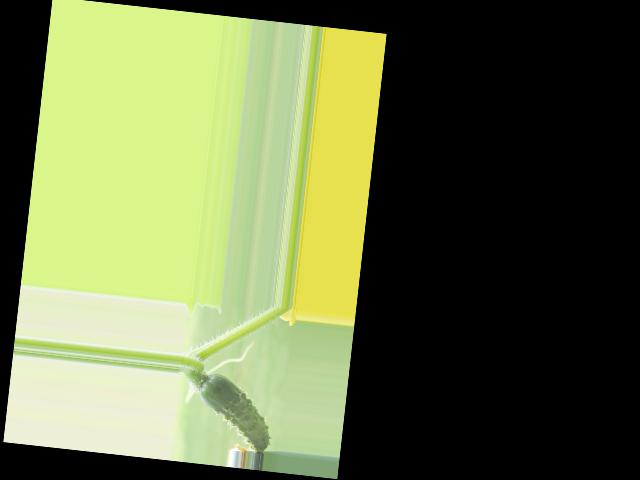cucumber: (194, 371, 277, 452)
